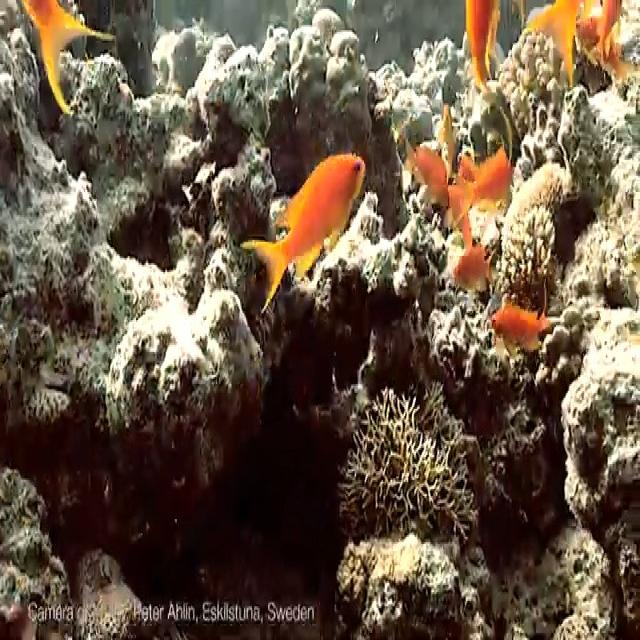Sea Goldie: (249, 152, 364, 302), (488, 298, 553, 361), (455, 147, 510, 211), (405, 142, 446, 193), (453, 243, 493, 292)
